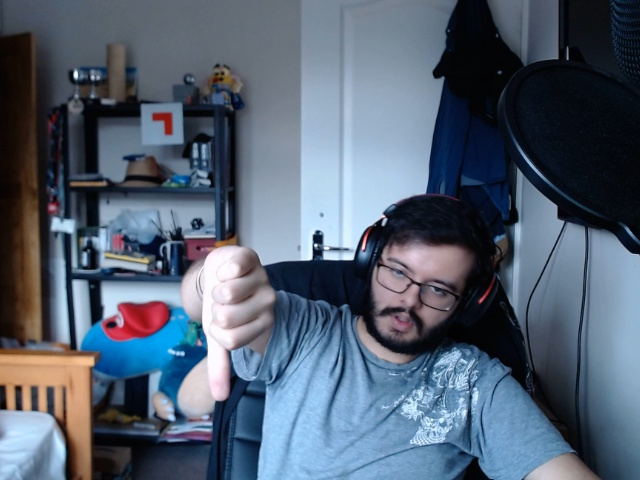Thumbs down: (187, 235, 287, 415)
